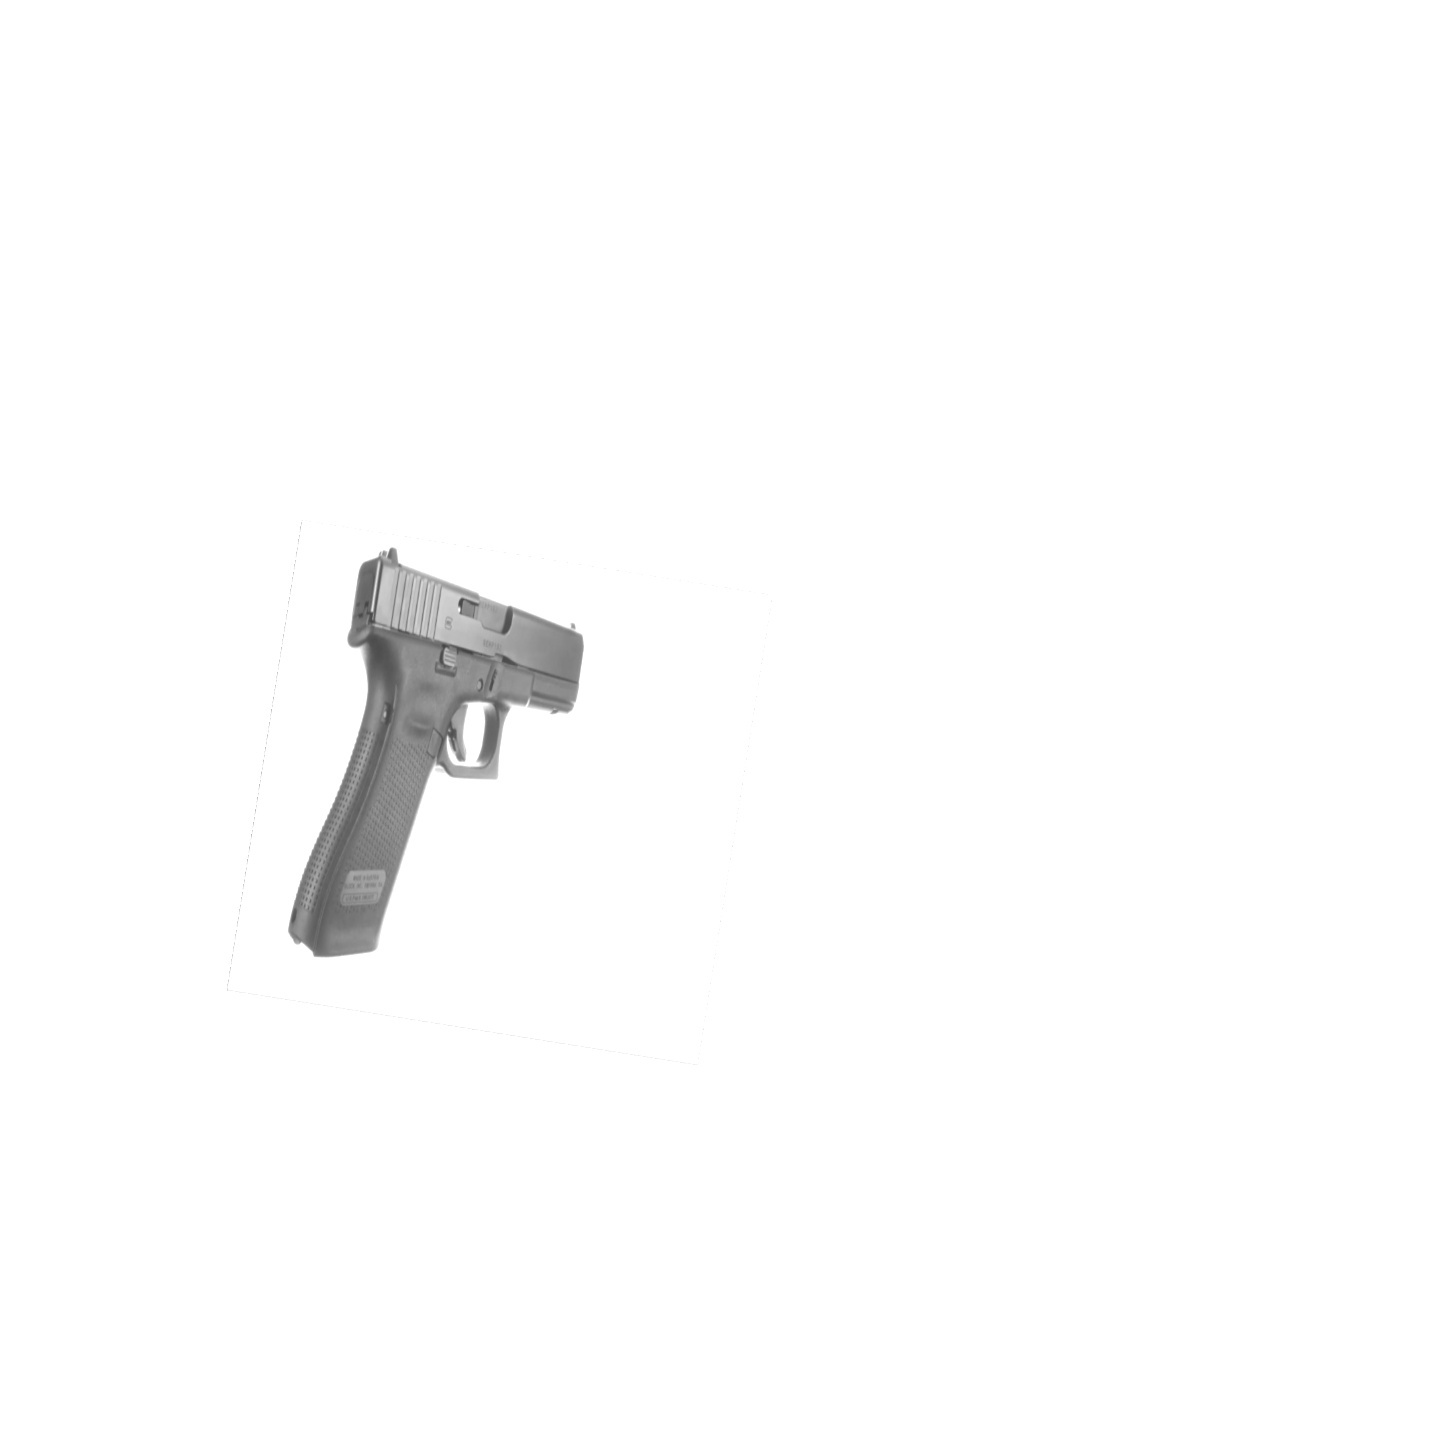gun: (287, 546, 587, 956)
